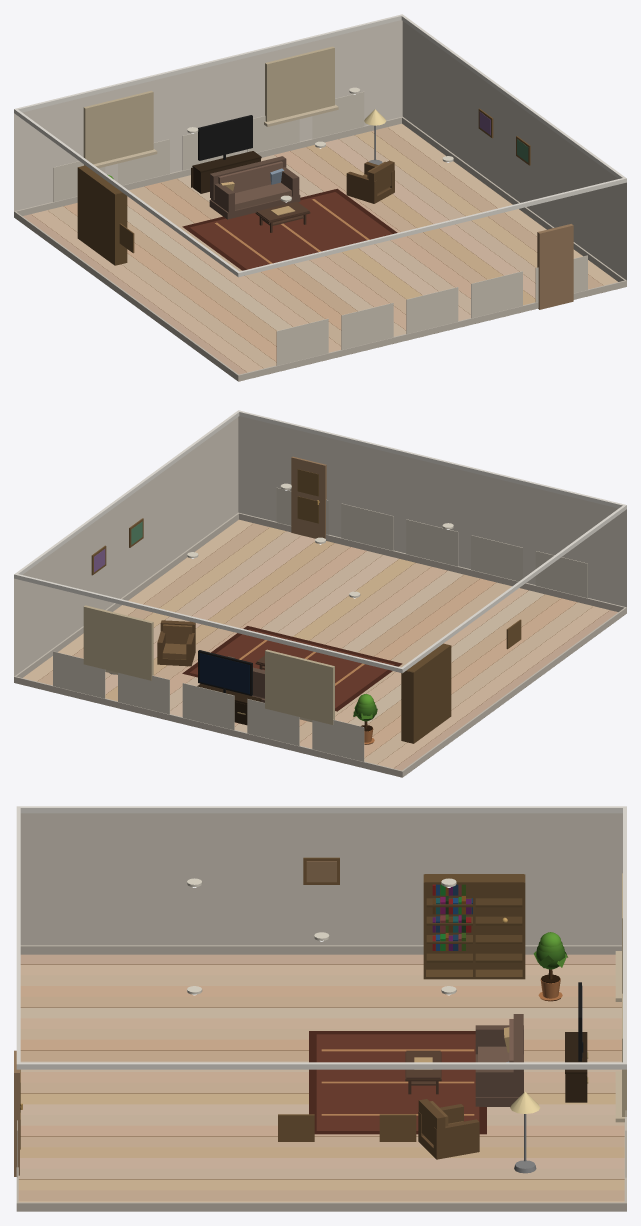
Rendered from interior-room.glb.
The picture shows the model from 3 angles, top to bottom: view 1: azimuth 30°, elevation 25°; view 2: azimuth 150°, elevation 25°; view 3: azimuth 270°, elevation 25°; orthographic projection. The views are drawn at different scales.
Bounding box in the file's own units: 12 × 3.23 × 12.05.
